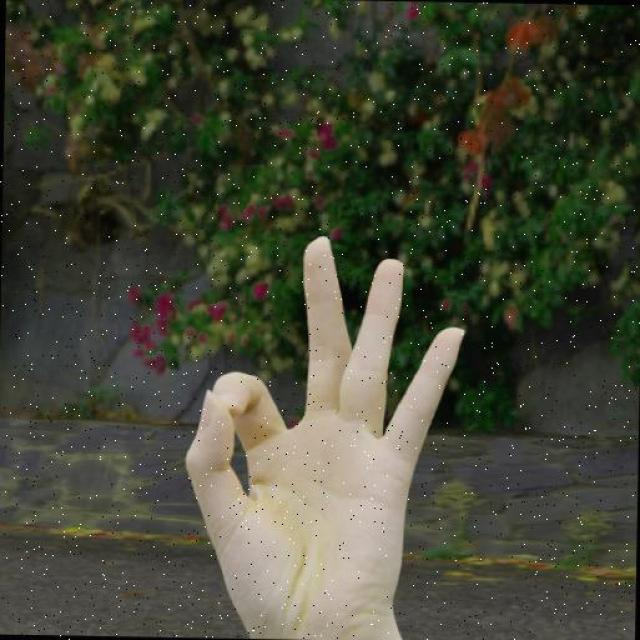F: (179, 230, 470, 639)
